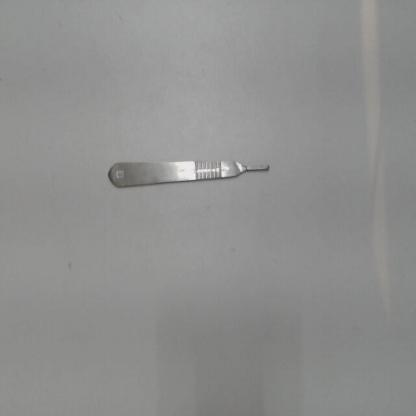No.3 BP Handle: (99, 144, 283, 196)
